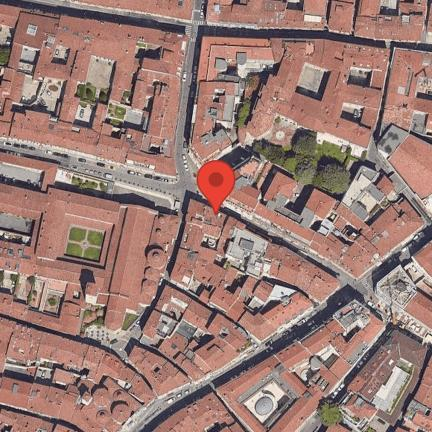built: (2, 4, 185, 175), (168, 197, 341, 342), (225, 299, 383, 432), (234, 157, 393, 280), (0, 312, 159, 414), (128, 286, 251, 390), (264, 45, 387, 145), (208, 0, 431, 53), (378, 51, 432, 224), (38, 189, 120, 289), (345, 327, 430, 420), (0, 372, 128, 432), (107, 206, 179, 303), (353, 164, 428, 246), (380, 238, 432, 335), (146, 388, 250, 432), (0, 282, 85, 334), (0, 150, 58, 219), (189, 88, 238, 169), (198, 35, 277, 81), (72, 0, 197, 19), (2, 230, 31, 280), (414, 361, 432, 432)
vegetation_high: (261, 128, 360, 199), (236, 75, 263, 130)
